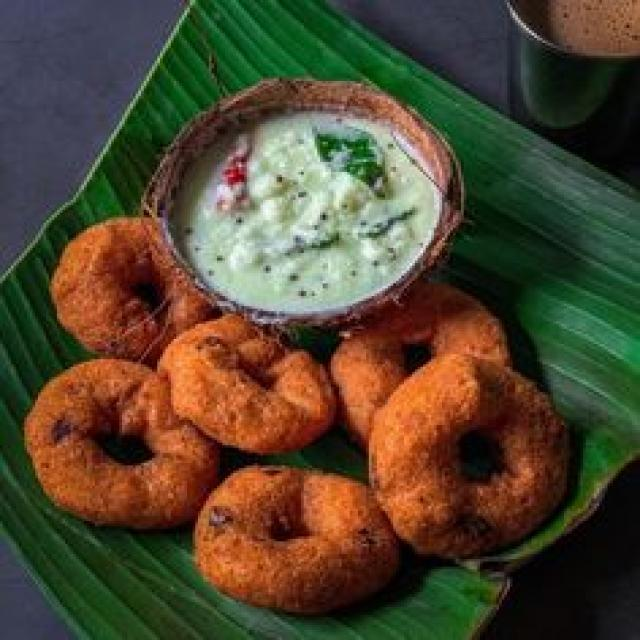SAMOSA: (469, 627, 523, 637)
